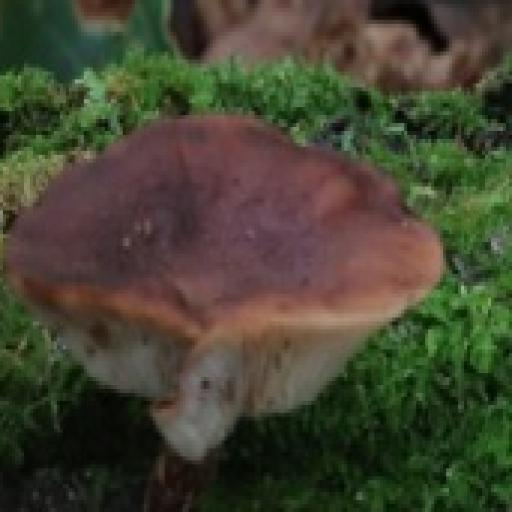Shiitake Mushroom: (0, 28, 447, 485)
